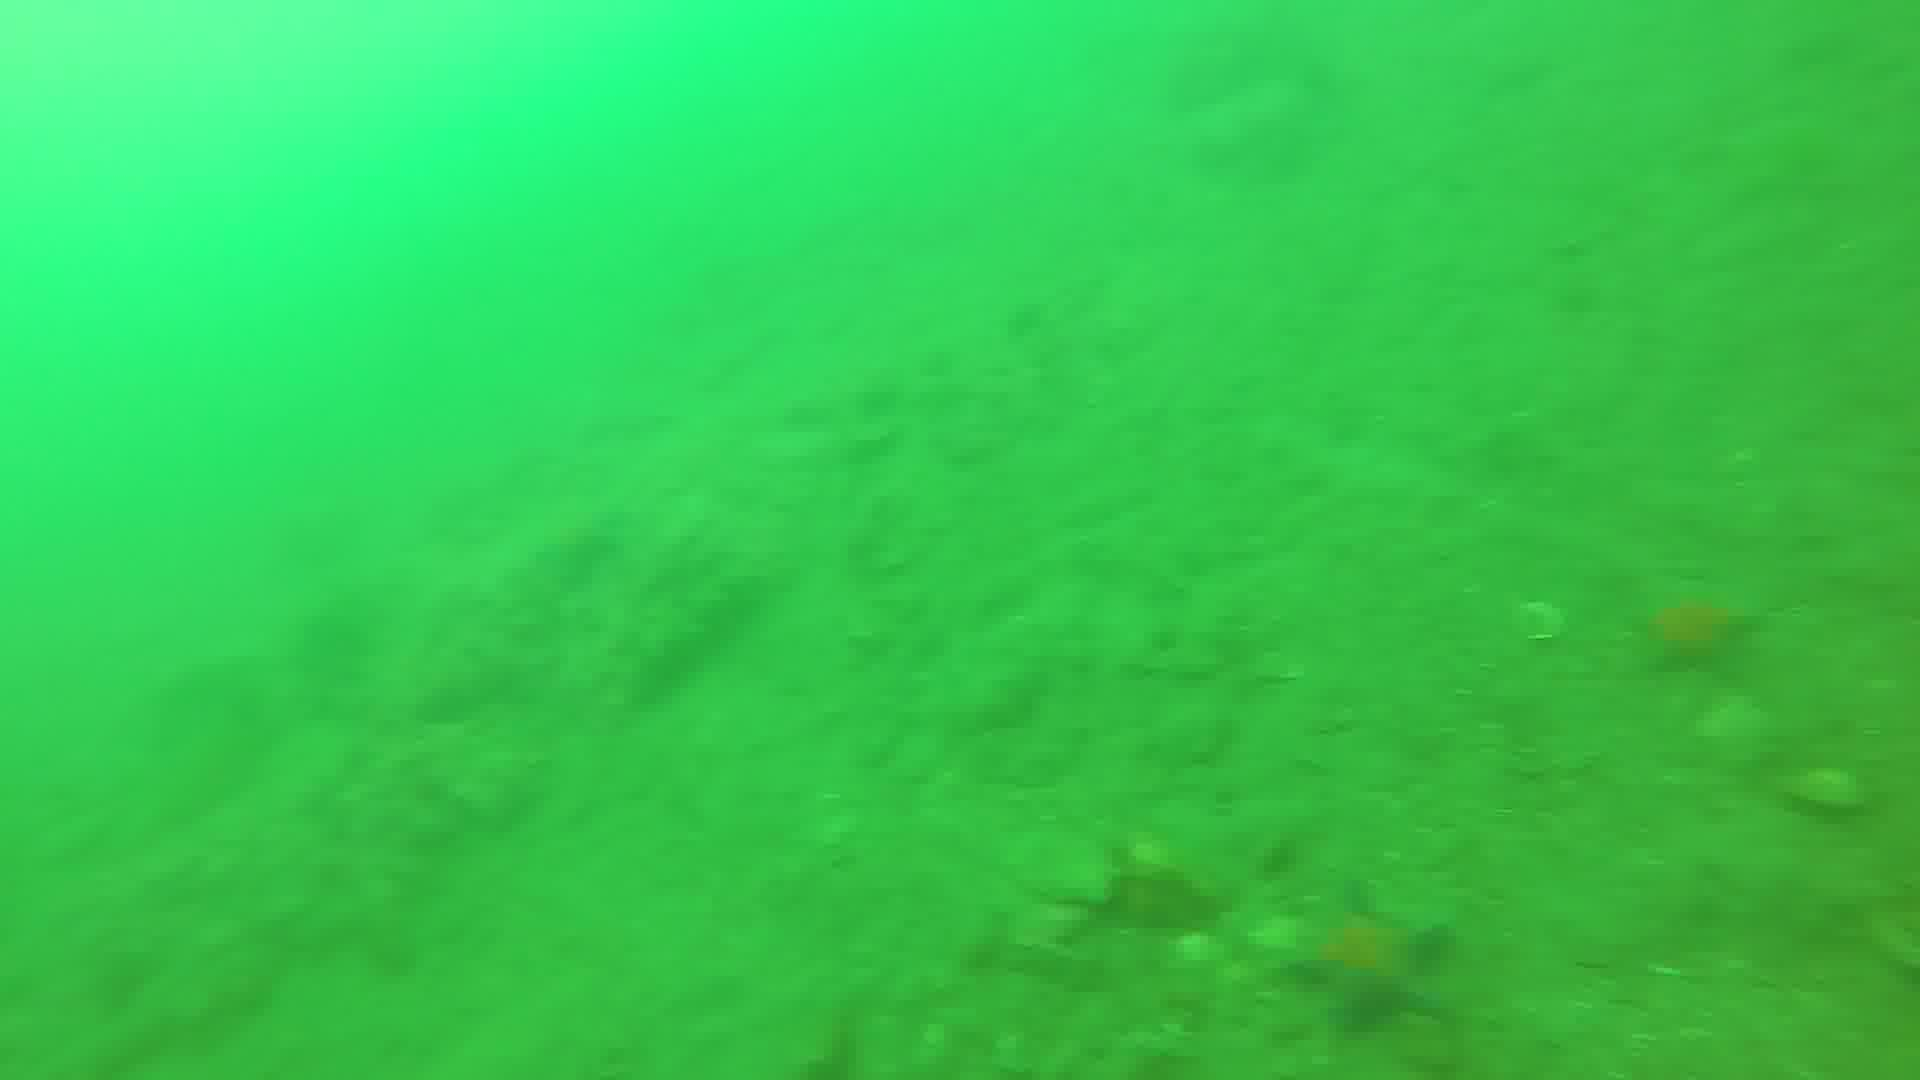starfish: (1284, 873, 1455, 1038), (1631, 582, 1760, 678)
